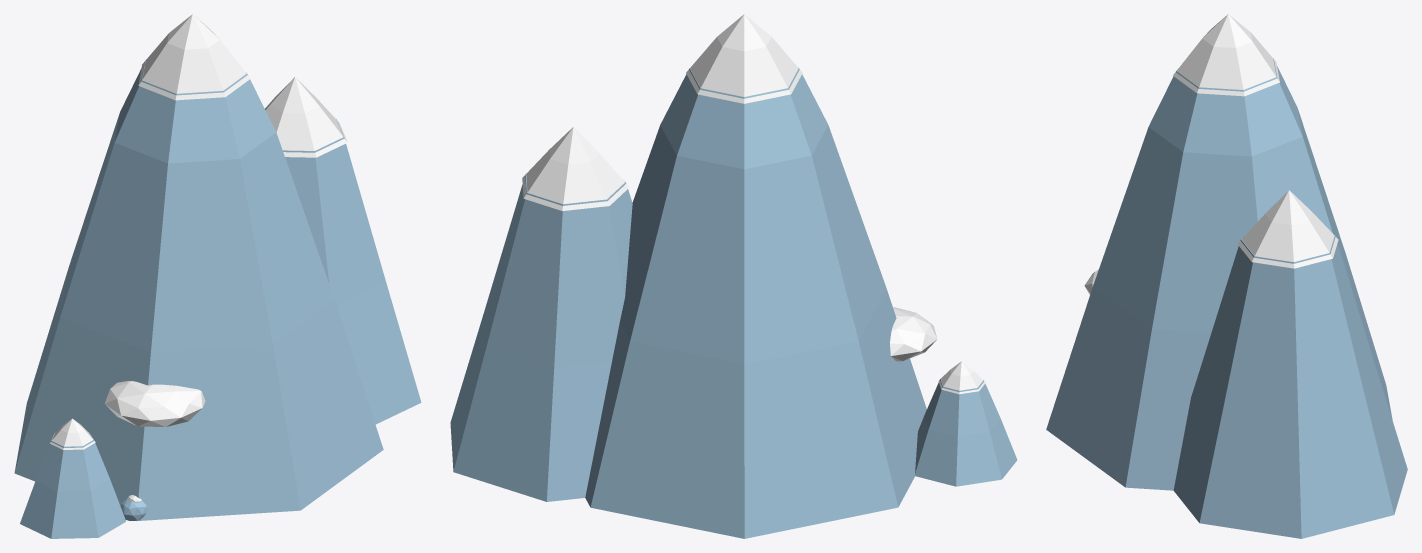
The model's file is ice-g2.glb.
The picture shows the model from 3 angles, left to right: view 1: azimuth 30°, elevation 25°; view 2: azimuth 150°, elevation 25°; view 3: azimuth 270°, elevation 25°; orthographic projection. The views are drawn at different scales.
Parts seen in each view (by area): view 1: ice-g2; view 2: ice-g2; view 3: ice-g2.
Part boxes in pixels (<box>): ice-g2: <box>14,14,421,538</box>; ice-g2: <box>450,14,1017,538</box>; ice-g2: <box>1046,14,1407,538</box>.
Bounding box in the file's own units: 2.91 × 2.6 × 2.08.
